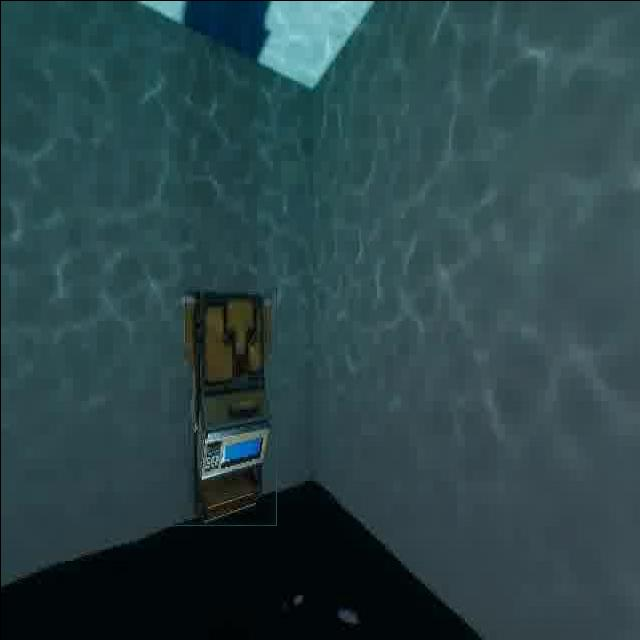Control Panel: (175, 287, 276, 525)
